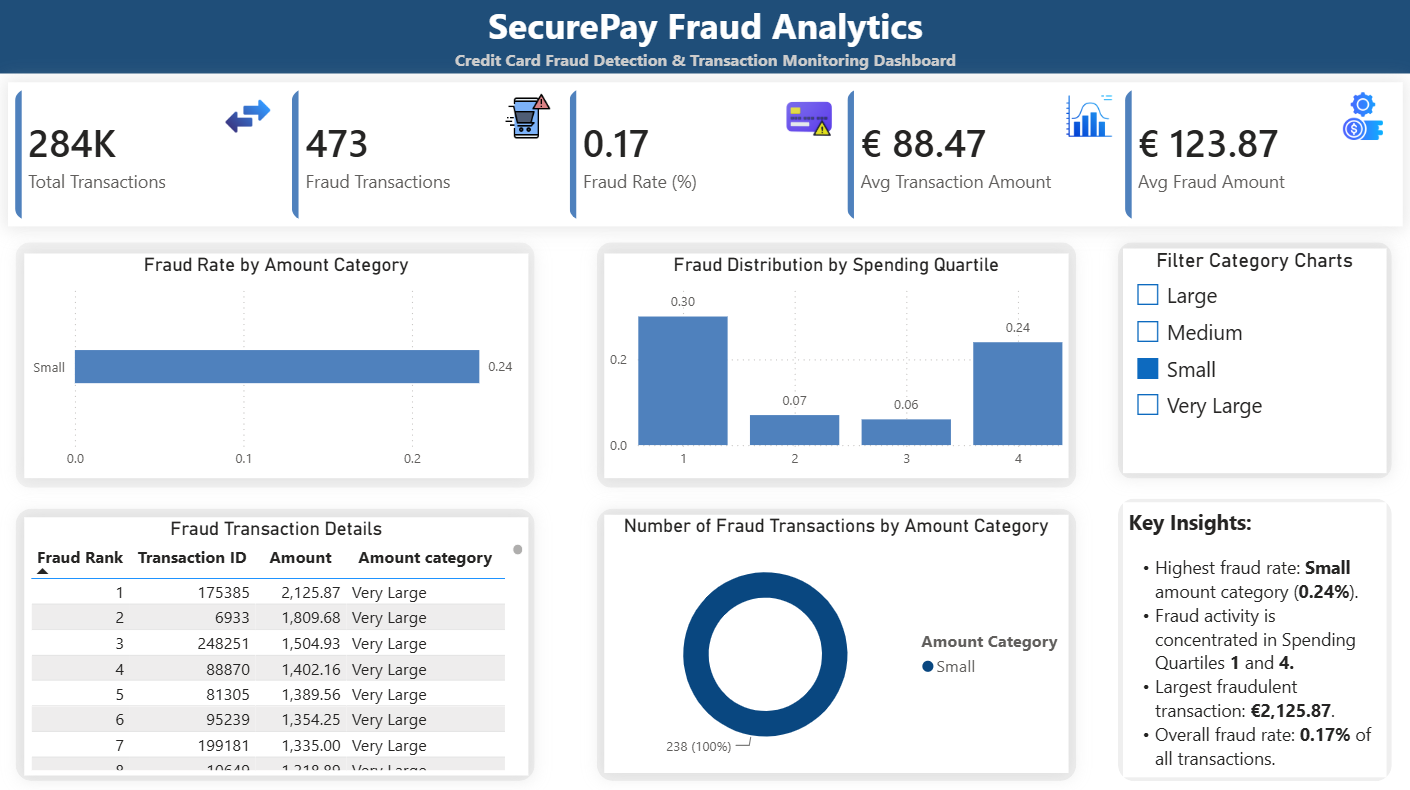

The page's visual inventory and layout, read from the dashboard file:
{"tool":"powerbi","page":{"name":"Fraud Overview","canvas":[1280,720],"ordinal":0},"visuals":[{"type":"shape","box":[0,0,1279.9,70.1],"z":0},{"type":"cardVisual","fields":{"Data":["Sum(public vw_executive_summary.total_transactions)","Sum(public vw_executive_summary.fraud_transactions)","Sum(public vw_executive_summary.fraud_percentage)","Sum(public vw_executive_summary.avg_transaction_amount)","Sum(public vw_executive_summary.avg_fraud_amount)"]},"box":[9.3,77.9,1261.6,130.2],"z":1000},{"type":"textbox","box":[0,0,1279.9,78],"z":2000},{"type":"shape","box":[16.3,223.3,469.8,222.1],"z":3000},{"type":"clusteredBarChart","title":"Fraud Rate by Amount Category","fields":{"Category":["public vw_amount_category_summary.amount_category"],"Y":["Sum(public vw_amount_category_summary.fraud_percentage)"]},"box":[23.3,232.6,455.8,203.5],"z":4000},{"type":"shape","box":[541.9,223.3,433.7,222.1],"z":5000},{"type":"columnChart","title":"Fraud Distribution by Spending Quartile","fields":{"Category":["public vw_spending_quartiles.spending_quartile"],"Y":["Sum(public vw_spending_quartiles.fraud_percentage)"]},"box":[548.8,232.6,419.8,203.5],"z":6000},{"type":"shape","box":[1012.8,223.3,247.7,214],"z":7000},{"type":"slicer","title":"Filter Category Charts","fields":{"Values":["public vw_amount_category_summary.amount_category"]},"box":[1017.4,227.9,238.4,203.5],"z":8000},{"type":"shape","box":[16.3,464,469.8,246.5],"z":9000},{"type":"tableEx","title":"Fraud Transaction Details","fields":{"Values":["public vw_fraud_ranking.fraud_rank","public vw_fraud_ranking.transaction_id","public vw_fraud_ranking.amount","public vw_fraud_ranking.amount_category"]},"box":[23.3,470.9,455.8,233.7],"z":10000},{"type":"shape","box":[541.9,464,433.7,246.5],"z":11000},{"type":"donutChart","fields":{"Category":["public vw_amount_category_summary.amount_category"],"Y":["Sum(public vw_amount_category_summary.fraud_transactions)"]},"box":[548.8,469.8,419.8,233.7],"z":12000},{"type":"shape","box":[1012.8,454.7,247.7,255.8],"z":13000},{"type":"textbox","box":[1017.4,458.1,238.4,248.8],"z":14000},{"type":"image","box":[1209.3,87.2,50,43],"z":14001},{"type":"image","box":[454.7,87.2,50,43],"z":14002},{"type":"image","box":[709.3,87.2,50,43],"z":14003},{"type":"image","box":[961.6,87.2,50,43],"z":14004},{"type":"image","box":[201.2,87.2,50,43],"z":14005}]}

Visuals, with their boxes in screenshot pixels (x1, y1, x2, y2), scaled from the page's 1280x720 canvas onto the 1410x790 screenshot:
shape: (0, 0, 1409, 77)
cardVisual - Sum(public vw_executive_summary.total_transactions) x Sum(public vw_executive_summary.fraud_transactions): (10, 85, 1400, 228)
textbox: (0, 0, 1409, 86)
shape: (18, 245, 535, 489)
"Fraud Rate by Amount Category" clusteredBarChart: (26, 255, 528, 478)
shape: (597, 245, 1075, 489)
"Fraud Distribution by Spending Quartile" columnChart: (605, 255, 1067, 478)
shape: (1116, 245, 1389, 480)
"Filter Category Charts" slicer: (1121, 250, 1383, 473)
shape: (18, 509, 535, 780)
"Fraud Transaction Details" tableEx: (26, 517, 528, 773)
shape: (597, 509, 1075, 780)
donutChart - public vw_amount_category_summary.amount_category x Sum(public vw_amount_category_summary.fraud_transactions): (605, 515, 1067, 772)
shape: (1116, 499, 1389, 780)
textbox: (1121, 503, 1383, 776)
image: (1332, 96, 1387, 143)
image: (501, 96, 556, 143)
image: (781, 96, 836, 143)
image: (1059, 96, 1114, 143)
image: (222, 96, 277, 143)
